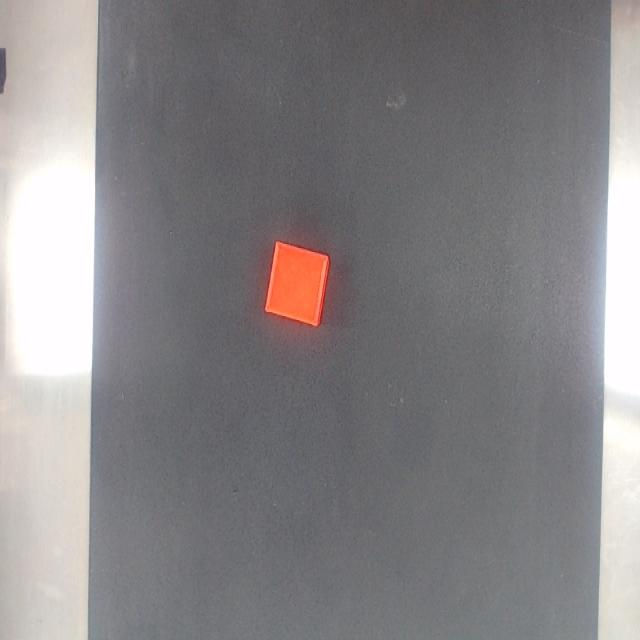Rojo: (264, 241, 329, 325)
